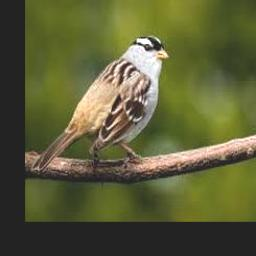Sparrow: (31, 34, 169, 175)
